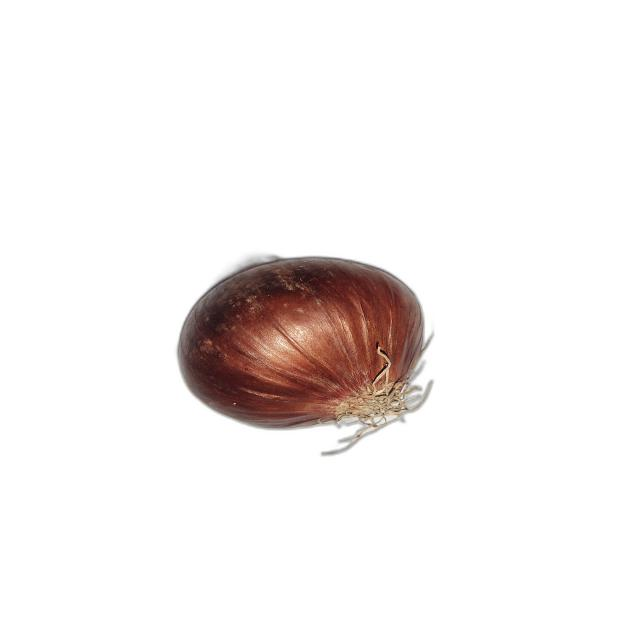onion: (177, 257, 435, 454)
